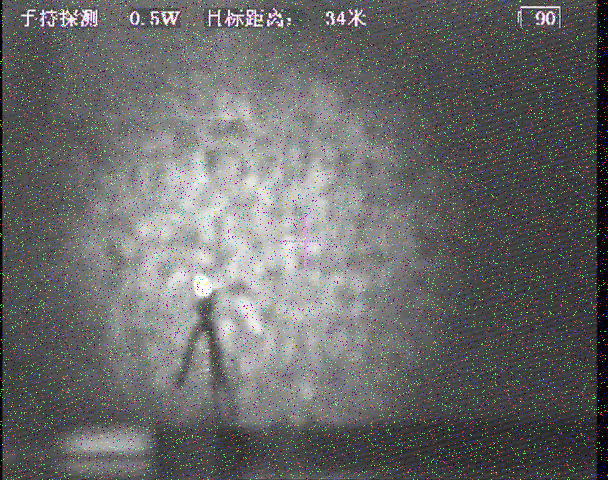my: (190, 272, 213, 298)
